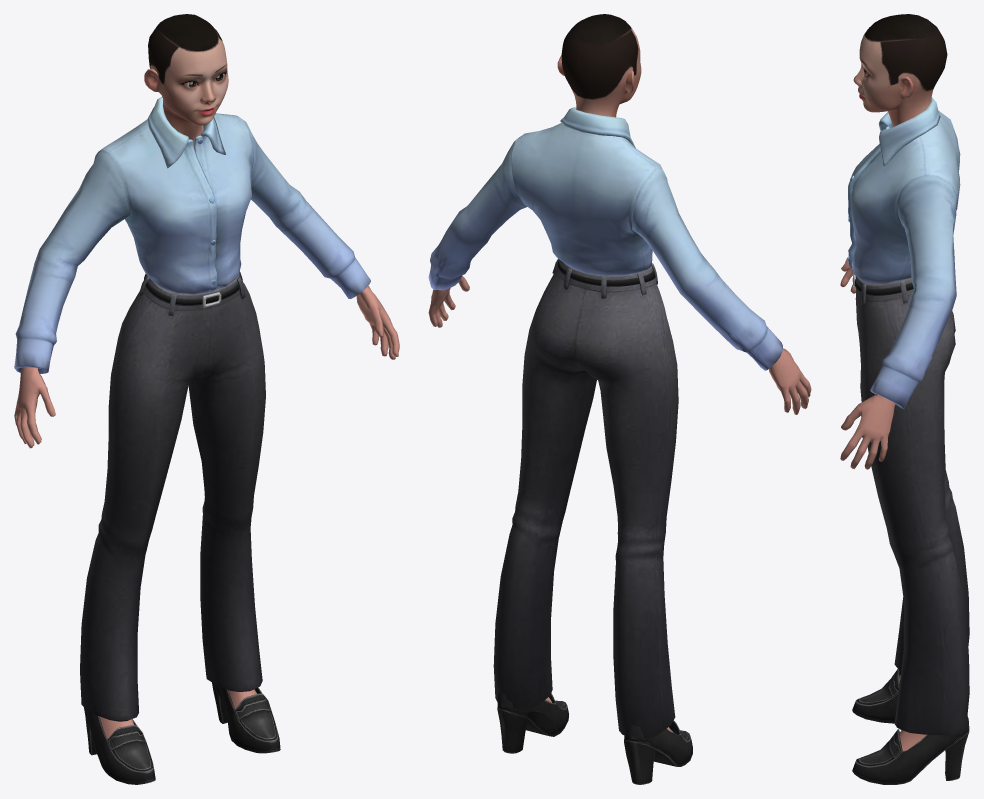
The model's file is defaultfemaleavatar.glb.
3 views of the same model, side by side, from view 1: azimuth 30°, elevation 25°; view 2: azimuth 150°, elevation 25°; view 3: azimuth 270°, elevation 25° (orthographic).
Parts seen in each view (by area): view 1: Wolf3D_Outfit_Bottom, Wolf3D_Outfit_Top, Wolf3D_Head, Wolf3D_Outfit_Footwear, Wolf3D_Body; view 2: Wolf3D_Outfit_Bottom, Wolf3D_Outfit_Top, Wolf3D_Head, Wolf3D_Outfit_Footwear, Wolf3D_Body; view 3: Wolf3D_Outfit_Bottom, Wolf3D_Outfit_Top, Wolf3D_Head, Wolf3D_Outfit_Footwear, Wolf3D_Body.
Part boxes in pixels (x1,y1,x2,y2): Wolf3D_Outfit_Bottom: [80, 271, 265, 721]; Wolf3D_Outfit_Top: [14, 97, 370, 373]; Wolf3D_Head: [144, 14, 228, 147]; Wolf3D_Outfit_Footwear: [84, 682, 280, 784]; Wolf3D_Body: [14, 285, 399, 738]; Wolf3D_Outfit_Bottom: [493, 258, 678, 738]; Wolf3D_Outfit_Top: [428, 107, 782, 370]; Wolf3D_Head: [557, 14, 641, 117]; Wolf3D_Outfit_Footwear: [497, 692, 692, 784]; Wolf3D_Body: [428, 275, 811, 731]; Wolf3D_Outfit_Bottom: [852, 271, 969, 735]; Wolf3D_Outfit_Top: [848, 97, 960, 408]; Wolf3D_Head: [853, 14, 947, 126]; Wolf3D_Outfit_Footwear: [852, 664, 969, 784]; Wolf3D_Body: [840, 257, 926, 750].
Bounding box in the file's own units: 0.9279 × 1.74 × 0.2804.
Materials: 7 (7 with a texture image).
